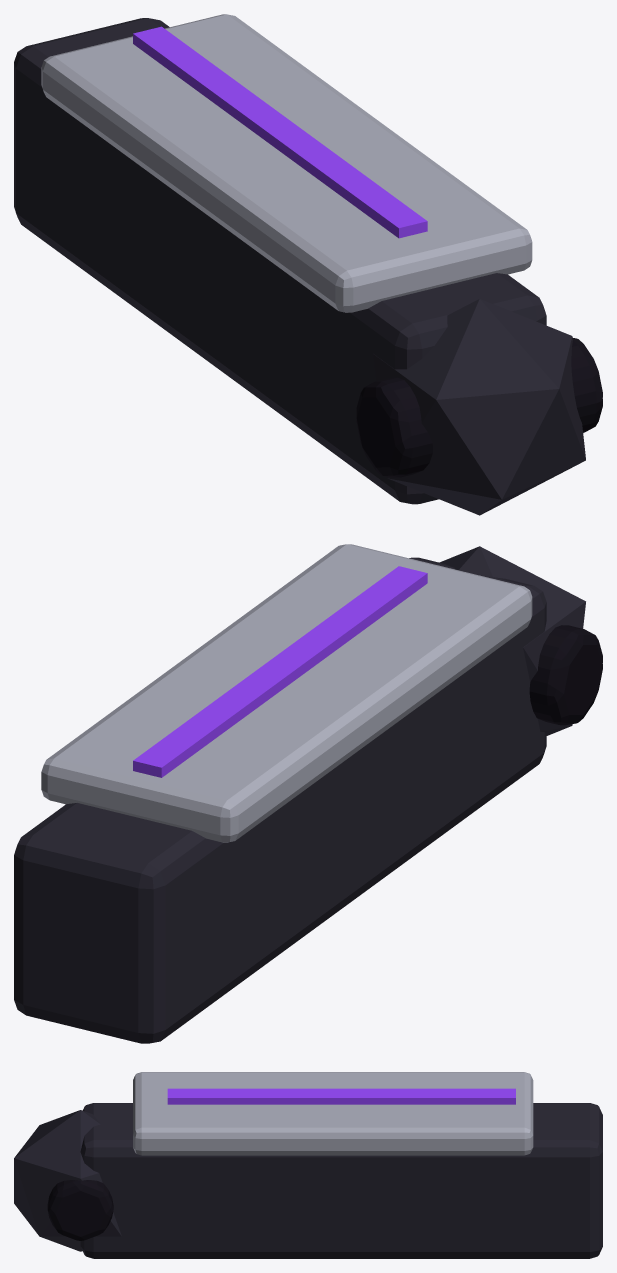
File: crucible_thigh.fbx
3 renders of one model, top to bottom at view 1: azimuth 30°, elevation 25°; view 2: azimuth 150°, elevation 25°; view 3: azimuth 270°, elevation 25°, orthographic. The views are drawn at different scales.
Parts seen in each view (by area): view 1: crucible_thigh; view 2: crucible_thigh; view 3: crucible_thigh.
Boxes of the visible parts, <box> form: crucible_thigh: <box>14,14,602,515</box>; crucible_thigh: <box>14,544,602,1043</box>; crucible_thigh: <box>14,1072,602,1258</box>.
Size of the model in its own units: 0.18 by 0.201 by 0.6766.
